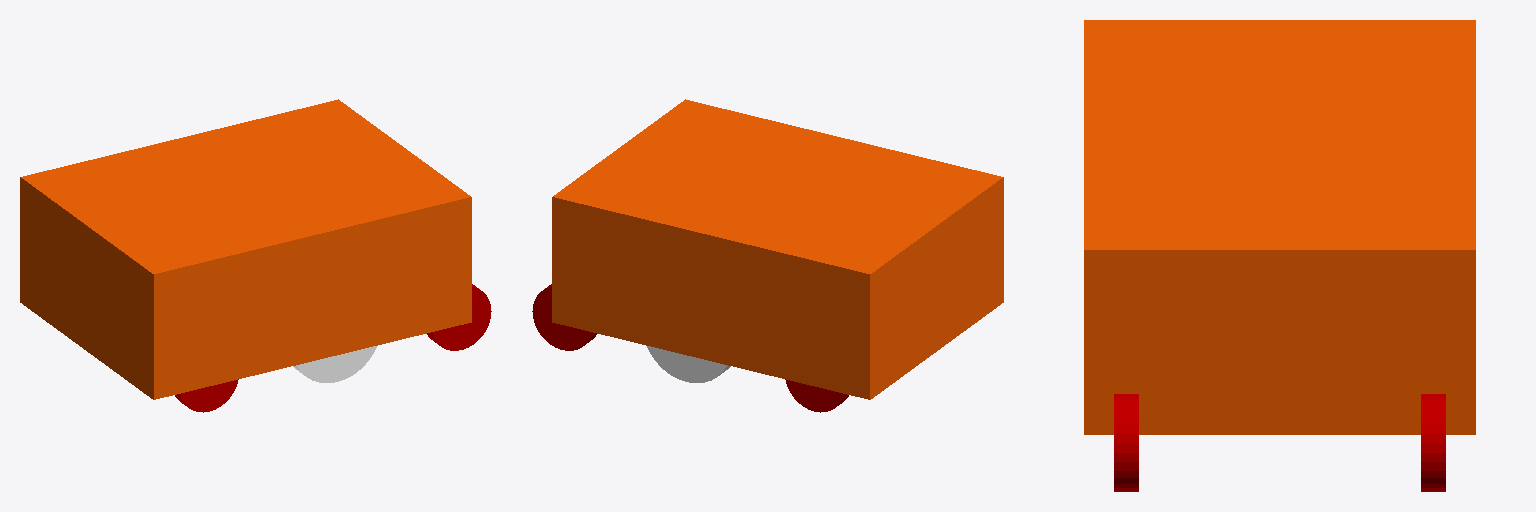
The robot description file, URDF, robot "orne_or":
<?xml version="1.0" ?>
<!-- =================================================================================== -->
<!-- |    This document was autogenerated by xacro from orne_or.urdf.xacro            | -->
<!-- |    EDITING THIS FILE BY HAND IS NOT RECOMMENDED                                 | -->
<!-- =================================================================================== -->
<robot name="orne_or" xmlns:controller="http://playerstage.sourceforge.net/gazebo/xmlschema/#controller" xmlns:interface="http://playerstage.sourceforge.net/gazebo/xmlschema/#interface">
  <material name="black">
    <color rgba="0.0 0.0 0.0 1.0"/>
  </material>
  <material name="blue">
    <color rgba="0.0 0.0 0.8 1.0"/>
  </material>
  <material name="green">
    <color rgba="0.0 0.8 0.0 1.0"/>
  </material>
  <material name="grey">
    <color rgba="0.2 0.2 0.2 1.0"/>
  </material>
  <material name="orange">
    <color rgba="1.0 0.4235294117647059 0.0392156862745098 1.0"/>
  </material>
  <material name="brown">
    <color rgba="0.8705882352941177 0.8117647058823529 0.7647058823529411 1.0"/>
  </material>
  <material name="red">
    <color rgba="0.8 0.0 0.0 1.0"/>
  </material>
  <material name="white">
    <color rgba="1.0 1.0 1.0 1.0"/>
  </material>
  <!--xacro:arg name="imu_visual"   default="false"/-->
  <gazebo>
    <plugin filename="libgazebo_ros_control.so" name="gazebo_ros_control">
      <robotSimType>icart_mini_gazebo/ICartMiniHWSim</robotSimType>
    </plugin>
  </gazebo>
  <gazebo reference="base_link">
    <material>Gazebo/Orange</material>
  </gazebo>
  <gazebo reference="wheel_left_link">
    <mu1>1.0</mu1>
    <mu2>1.0</mu2>
    <kp>1000000.0</kp>
    <kd>100.0</kd>
    <minDepth>0.001</minDepth>
    <maxVel>1.0</maxVel>
    <material>Gazebo/White</material>
  </gazebo>
  <gazebo reference="wheel_right_link">
    <mu1>1.0</mu1>
    <mu2>1.0</mu2>
    <kp>1000000.0</kp>
    <kd>100.0</kd>
    <minDepth>0.001</minDepth>
    <maxVel>1.0</maxVel>
    <material>Gazebo/White</material>
  </gazebo>
  <gazebo reference="caster_front_link">
    <mu1>0.0</mu1>
    <mu2>0.0</mu2>
    <material>Gazebo/Red</material>
  </gazebo>
  <!--
  <gazebo reference="imu_link">
    <sensor type="imu" name="imu">
      <always_on>true</always_on>
      <visualize>$(arg imu_visual)</visualize>
    </sensor>
    <material>Gazebo/FlatBlack</material>
  </gazebo>
-->
  <!-- hokuyo -->
  <gazebo reference="hokuyo_link">
    <sensor name="head_hokuyo_sensor" type="ray">
      <pose>0 0 0 0 0 0</pose>
      <visualize>true</visualize>
      <update_rate>40</update_rate>
      <ray>
        <scan>
          <horizontal>
            <samples>880</samples>
            <resolution>1</resolution>
            <min_angle>-1.9198621771937625</min_angle>
            <max_angle>1.9198621771937625</max_angle>
          </horizontal>
        </scan>
        <range>
          <min>0.10</min>
          <max>30.0</max>
          <resolution>0.01</resolution>
        </range>
        <noise>
          <type>gaussian</type>
          <!-- Noise parameters based on published spec for Hokuyo laser
               achieving "+-30mm" accuracy at range < 10m.  A mean of 0.0m and
               stddev of 0.01m will put 99.7% of samples within 0.03m of the true
               reading. -->
          <mean>0.0</mean>
          <stddev>0.01</stddev>
        </noise>
      </ray>
      <plugin filename="libgazebo_ros_laser.so" name="gazebo_ros_head_hokuyo_controller">
        <topicName>/scan</topicName>
        <frameName>hokuyo_link</frameName>
      </plugin>
    </sensor>
  </gazebo>
  <link name="base_link">
    <visual>
      <origin rpy="0 0 0" xyz="-0.055 0 0.156"/>
      <geometry>
        <box size="0.53 0.3840 0.2"/>
      </geometry>
      <material name="orange"/>
    </visual>
    <inertial>
      <origin rpy="0 0 0" xyz="0.090 0 0.1715"/>
      <mass value="25.0"/>
      <inertia ixx="1.0" ixy="0.0" ixz="0.0" iyy="1.0" iyz="0.0" izz="1.0"/>
    </inertial>
  </link>
  <joint name="left_wheel_hinge" type="revolute">
    <parent link="base_link"/>
    <child link="wheel_left_link"/>
    <origin rpy="-1.5707963267948966 0 0" xyz="0.0 0.1525 0.075"/>
    <axis xyz="0 0 1"/>
    <limit effort="100" lower="-5000" upper="5000" velocity="100.0"/>
  </joint>
  <link name="wheel_left_link">
    <visual>
      <origin rpy="0 0 0" xyz="0 0 0"/>
      <geometry>
        <cylinder length="0.030" radius="0.075"/>
      </geometry>
      <material name="white"/>
    </visual>
    <collision>
      <origin rpy="0 0 0" xyz="0 0 0"/>
      <geometry>
        <cylinder length="0.030" radius="0.075"/>
      </geometry>
    </collision>
    <inertial>
      <origin xyz="0 0 0"/>
      <mass value="0.2"/>
      <inertia ixx="0.1" ixy="0.0" ixz="0.0" iyy="0.1" iyz="0.0" izz="0.1"/>
    </inertial>
  </link>
  <joint name="right_wheel_hinge" type="revolute">
    <parent link="base_link"/>
    <child link="wheel_right_link"/>
    <origin rpy="-1.5707963267948966 0 0" xyz="0.0 -0.1525 0.075"/>
    <axis xyz="0 0 1"/>
    <limit effort="100" lower="-5000" upper="5000" velocity="100.0"/>
  </joint>
  <link name="wheel_right_link">
    <visual>
      <origin rpy="0 0 0" xyz="0 0 0"/>
      <geometry>
        <cylinder length="0.030" radius="0.075"/>
      </geometry>
      <material name="white"/>
    </visual>
    <collision>
      <origin rpy="0 0 0" xyz="0 0 0"/>
      <geometry>
        <cylinder length="0.030" radius="0.075"/>
      </geometry>
    </collision>
    <inertial>
      <origin xyz="0 0 0"/>
      <mass value="0.2"/>
      <inertia ixx="0.1" ixy="0.0" ixz="0.0" iyy="0.1" iyz="0.0" izz="0.1"/>
    </inertial>
  </link>
  <joint name="caster_front_joint" type="fixed">
    <parent link="base_link"/>
    <child link="caster_front_link"/>
    <origin rpy="0 0 0" xyz="0.21 0 0.050"/>
  </joint>
  <link name="caster_front_link">
    <visual>
      <origin rpy="1.5707963267948966 0 0" xyz="0 0.150 0"/>
      <geometry>
        <cylinder length="0.025" radius="0.050"/>
      </geometry>
      <material name="red"/>
    </visual>
    <visual>
      <origin rpy="1.5707963267948966 0 0" xyz="0 -0.150 0"/>
      <geometry>
        <cylinder length="0.025" radius="0.050"/>
      </geometry>
      <material name="red"/>
    </visual>
    <collision>
      <origin rpy="1.5707963267948966 0 0" xyz="0 0.150 0"/>
      <geometry>
        <cylinder length="0.025" radius="0.050"/>
      </geometry>
    </collision>
    <collision>
      <origin rpy="1.5707963267948966 0 0" xyz="0 -0.150 0"/>
      <geometry>
        <cylinder length="0.025" radius="0.050"/>
      </geometry>
    </collision>
    <inertial>
      <origin xyz="0 0 0"/>
      <mass value="0.2"/>
      <inertia ixx="0.1" ixy="0.0" ixz="0.0" iyy="0.1" iyz="0.0" izz="0.1"/>
    </inertial>
  </link>
  <joint name="caster_back_joint" type="fixed">
    <parent link="base_link"/>
    <child link="caster_back_link"/>
    <origin rpy="0 0 0" xyz="-0.21 0 0.050"/>
  </joint>
  <link name="caster_back_link">
    <visual>
      <origin rpy="1.5707963267948966 0 0" xyz="0 0.150 0"/>
      <geometry>
        <cylinder length="0.025" radius="0.050"/>
      </geometry>
      <material name="red"/>
    </visual>
    <visual>
      <origin rpy="1.5707963267948966 0 0" xyz="0 -0.150 0"/>
      <geometry>
        <cylinder length="0.025" radius="0.050"/>
      </geometry>
      <material name="red"/>
    </visual>
    <collision>
      <origin rpy="1.5707963267948966 0 0" xyz="0 0.150 0"/>
      <geometry>
        <cylinder length="0.025" radius="0.050"/>
      </geometry>
    </collision>
    <collision>
      <origin rpy="1.5707963267948966 0 0" xyz="0 -0.150 0"/>
      <geometry>
        <cylinder length="0.025" radius="0.050"/>
      </geometry>
    </collision>
    <inertial>
      <origin xyz="0 0 0"/>
      <mass value="0.2"/>
      <inertia ixx="0.1" ixy="0.0" ixz="0.0" iyy="0.1" iyz="0.0" izz="0.1"/>
    </inertial>
  </link>
  <!--xacro:include filename="$(find icart_mini_description)/urdf/sensors/imu.urdf.xacro"/-->
  <!-- Setting for imu -->
  <!--
  <xacro:sensor_imu name="imu" parent="base_link" size="0.05 0.05 0.05">
    <origin xyz="0.3 0 0.2445" rpy="0 0 ${-PI/2}"/>
  </xacro:sensor_imu>
  -->
  <joint name="hokuyo_joint" type="fixed">
    <axis xyz="0 1 0"/>
    <origin rpy="0 0 0" xyz="0.13 0 0.5"/>
    <parent link="base_link"/>
    <child link="hokuyo_link"/>
  </joint>
  <link name="hokuyo_link">
    <collision>
      <origin rpy="0 0 0" xyz="0 0 0"/>
      <geometry>
        <box size="0.1 0.1 0.1"/>
      </geometry>
    </collision>
    <visual>
      <origin rpy="0 0 0" xyz="0 0 0"/>
      <geometry>
        <mesh filename="package://icart_mini_description/meshes/hokuyo.dae"/>
      </geometry>
    </visual>
    <inertial>
      <mass value="0.0001"/>
      <origin rpy="0 0 0" xyz="0 0 0"/>
      <inertia ixx="0.0001" ixy="0" ixz="0" iyy="0.0001" iyz="0" izz="0.0001"/>
    </inertial>
  </link>
  <transmission name="tran1">
    <type>transmission_interface/SimpleTransmission</type>
    <joint name="left_wheel_hinge">
      <hardwareInterface>VelocityJointInterface</hardwareInterface>
    </joint>
    <actuator name="left_motor">
      <hardwareInterface>VelocityJointInterface</hardwareInterface>
      <mechanicalReduction>1</mechanicalReduction>
    </actuator>
  </transmission>
  <transmission name="tran2">
    <type>transmission_interface/SimpleTransmission</type>
    <joint name="right_wheel_hinge">
      <hardwareInterface>VelocityJointInterface</hardwareInterface>
    </joint>
    <actuator name="right_motor">
      <hardwareInterface>VelocityJointInterface</hardwareInterface>
      <mechanicalReduction>1</mechanicalReduction>
    </actuator>
  </transmission>
</robot>

--- Facts derived from the render (not from the file) ---
3 views of the same robot in one strip: view 1: azimuth 30°, elevation 25°; view 2: azimuth 150°, elevation 25°; view 3: azimuth 270°, elevation 25° (orthographic).
Model orne_or with 6 links and 5 joints (2 revolute, 3 fixed), rooted at base_link, posed every joint at zero.
Visible links, largest first — view 1: base_link, caster_front_link, wheel_right_link, caster_back_link; view 2: base_link, caster_front_link, wheel_left_link, caster_back_link; view 3: base_link, caster_front_link.
Link boxes in pixels (x1,y1,x2,y2): base_link: [20, 99, 471, 399]; caster_front_link: [427, 284, 491, 350]; wheel_right_link: [293, 346, 376, 382]; caster_back_link: [175, 379, 238, 412]; base_link: [552, 99, 1003, 399]; caster_front_link: [532, 284, 596, 350]; wheel_left_link: [647, 346, 730, 382]; caster_back_link: [785, 379, 848, 412]; base_link: [1084, 20, 1475, 434]; caster_front_link: [1114, 394, 1445, 491].
Bounding box of the posed robot: 0.58 × 0.384 × 0.256 m (x, y, z).
0 mesh visuals loaded from 1 distinct referenced files (none loaded); not drawn: 1 (reference not matched to a file when rendering).
